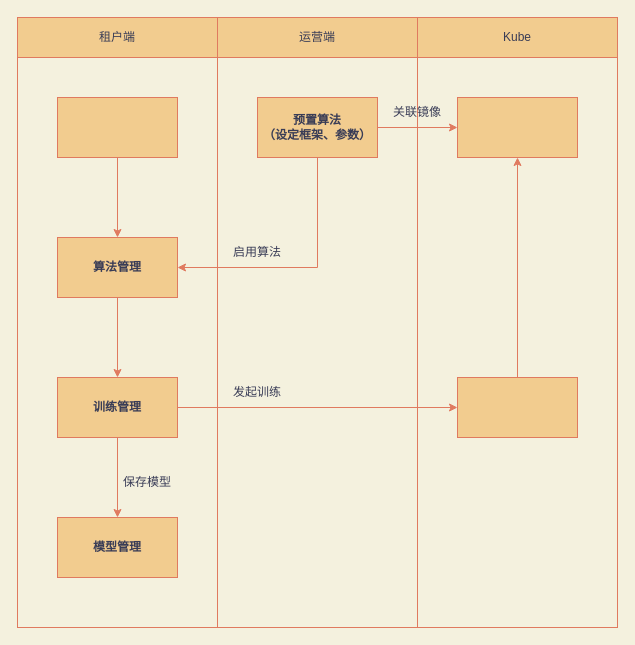
This 635x645 diagram has some shape labels left out. The box of each missing label's shape, as (x1, y1, x2, y2) in pixels:
AI计算任务: (456, 376, 578, 438)
AI镜像: (456, 96, 578, 158)
数据集管理: (56, 96, 178, 158)
